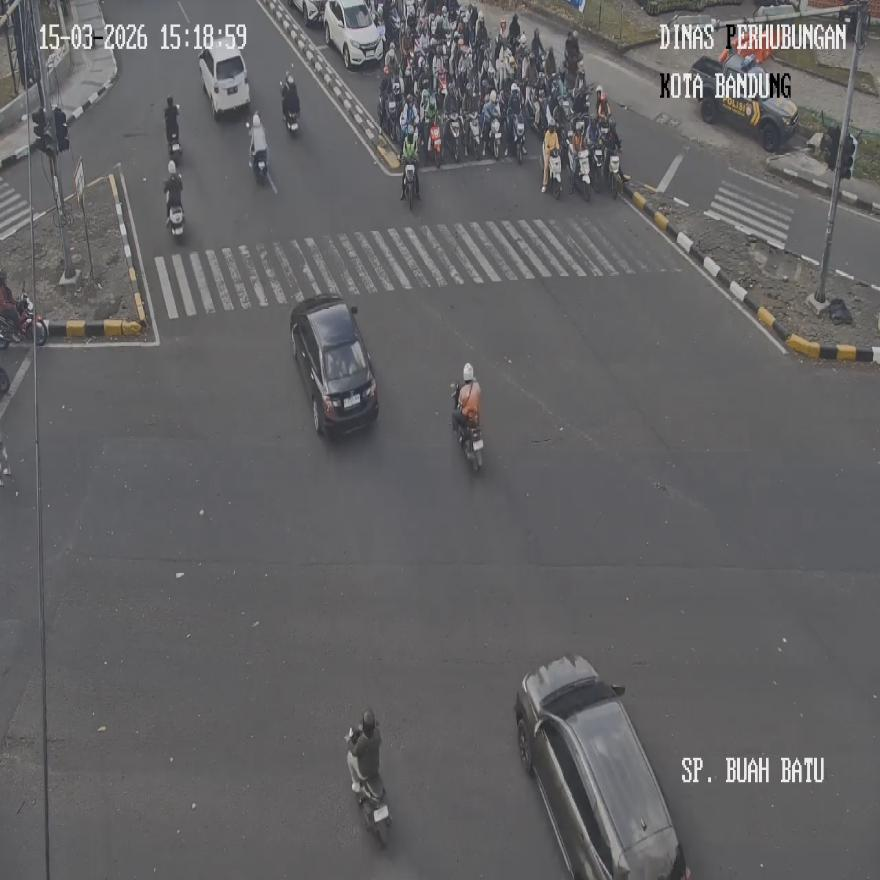Motor: (514, 655, 689, 879), (290, 292, 379, 435), (689, 52, 799, 152), (198, 34, 251, 116), (324, 0, 383, 68)
Truk: (346, 724, 390, 848), (451, 380, 483, 471), (0, 292, 47, 347), (248, 120, 267, 184), (570, 146, 592, 200), (377, 88, 399, 139), (281, 77, 300, 133), (164, 106, 181, 159), (402, 156, 418, 209), (606, 145, 622, 197), (166, 196, 184, 241), (547, 148, 563, 198), (446, 114, 463, 160), (590, 142, 604, 192), (466, 114, 481, 158), (511, 116, 525, 163), (428, 119, 442, 166), (488, 116, 502, 160)
